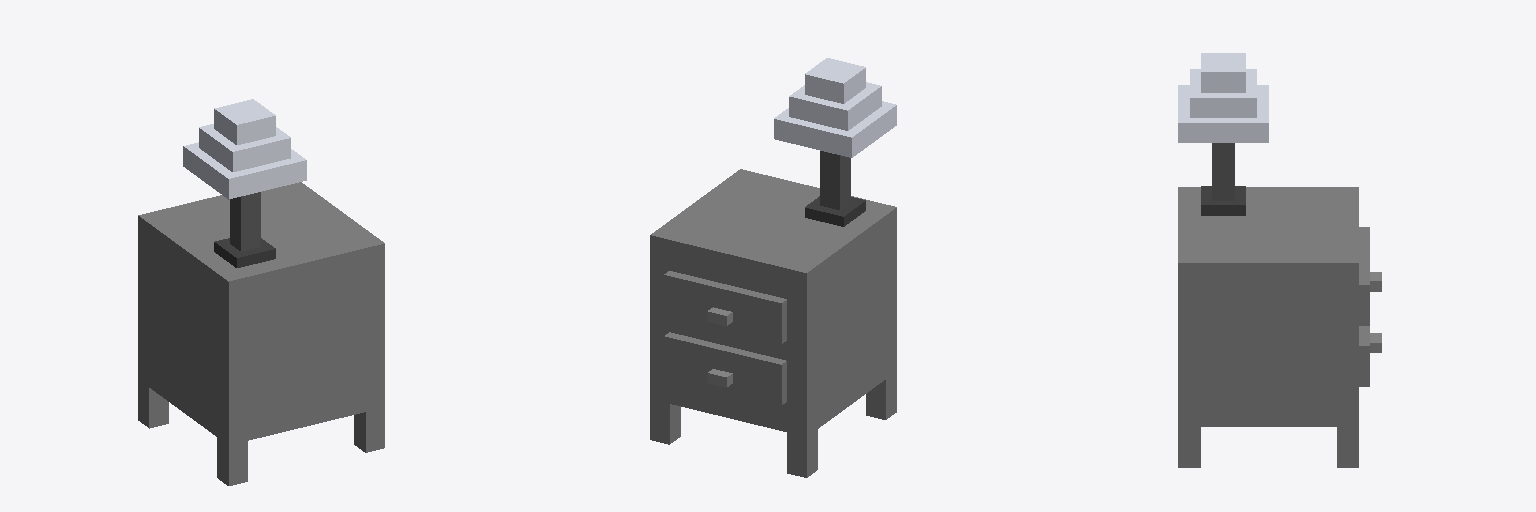
3 renders of one model, left to right at view 1: azimuth 30°, elevation 25°; view 2: azimuth 150°, elevation 25°; view 3: azimuth 270°, elevation 25°, orthographic.
Visible parts, largest first — view 1: main, layer_1, layer_2, layer_3, stem, leg_3, leg_2, leg_4, base; view 2: main, body, layer_1, layer_2, layer_3, stem, leg_4, leg_1, leg_3, base, handle; view 3: main, layer_1, layer_2, layer_3, body, stem, base, leg_2, leg_1.
Boxes of the visible parts, x1,y1,x2,y2 form: main: [138, 182, 384, 445]; layer_1: [183, 142, 306, 199]; layer_2: [199, 124, 290, 171]; layer_3: [214, 99, 275, 144]; stem: [230, 192, 260, 251]; leg_3: [217, 437, 247, 485]; leg_2: [354, 407, 384, 452]; leg_4: [138, 380, 168, 428]; base: [214, 238, 275, 267]; main: [650, 169, 896, 436]; body: [664, 271, 786, 405]; layer_1: [774, 101, 896, 157]; layer_2: [789, 82, 881, 130]; layer_3: [805, 58, 865, 103]; stem: [820, 151, 850, 209]; leg_4: [787, 429, 817, 477]; leg_1: [650, 399, 680, 444]; leg_3: [866, 372, 896, 419]; base: [805, 196, 865, 226]; handle: [707, 307, 732, 387]; main: [1178, 187, 1358, 426]; layer_1: [1178, 85, 1268, 142]; layer_2: [1190, 69, 1256, 117]; layer_3: [1201, 53, 1245, 92]; body: [1359, 227, 1369, 386]; stem: [1212, 143, 1234, 200]; base: [1201, 186, 1245, 215]; leg_2: [1178, 427, 1200, 467]; leg_1: [1337, 427, 1358, 467].
Size of the model in its own units: 1 by 2.12 by 1.12.
Materials: 6 (6 with a texture image).